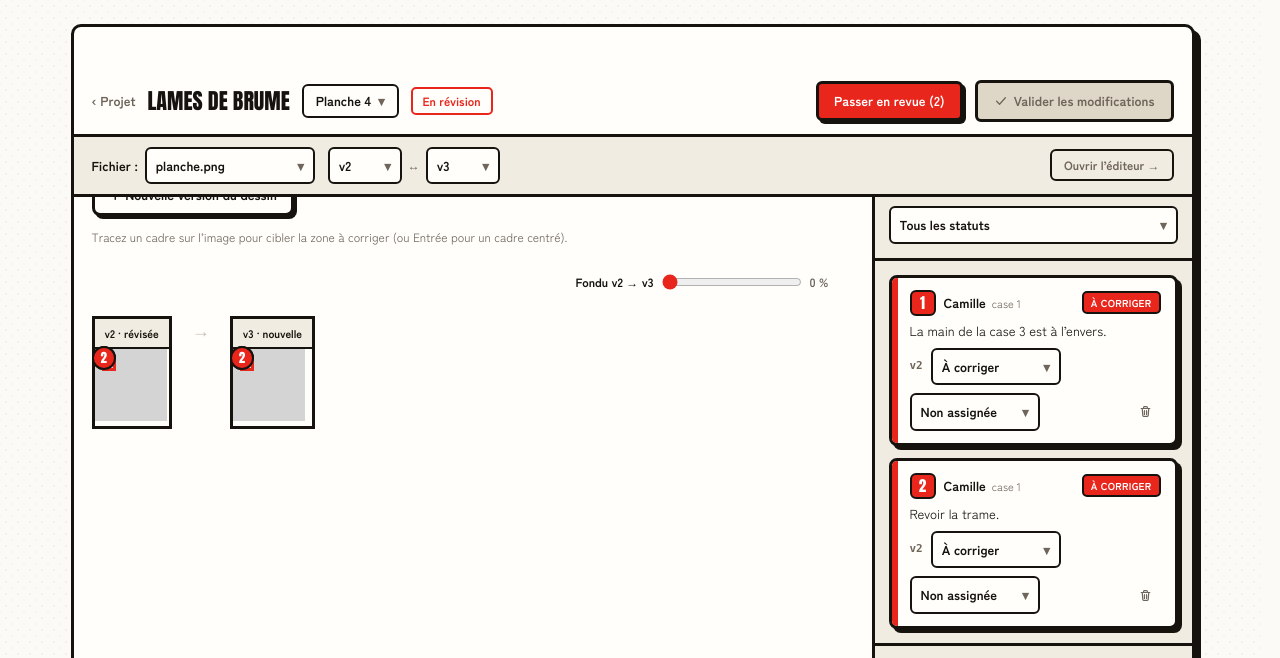
it: ReviewClient — CS-25 new-version triage › walks the corrections, writes each decision through the existing status route and exits with a summary
Click the button "Passer en revue (2)": {"x": 889, "y": 101} [816, 81, 963, 121]
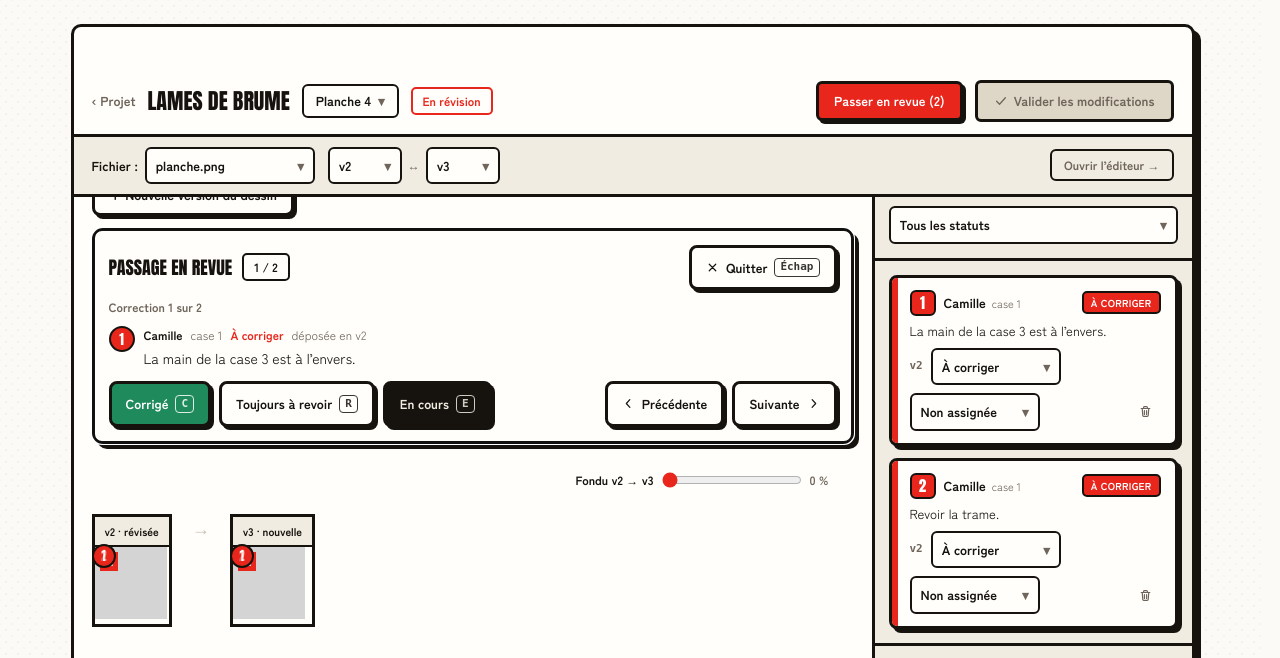
Check: the element named "Passage en revue des corrections" is shown, box [92, 228, 854, 444]
Press c
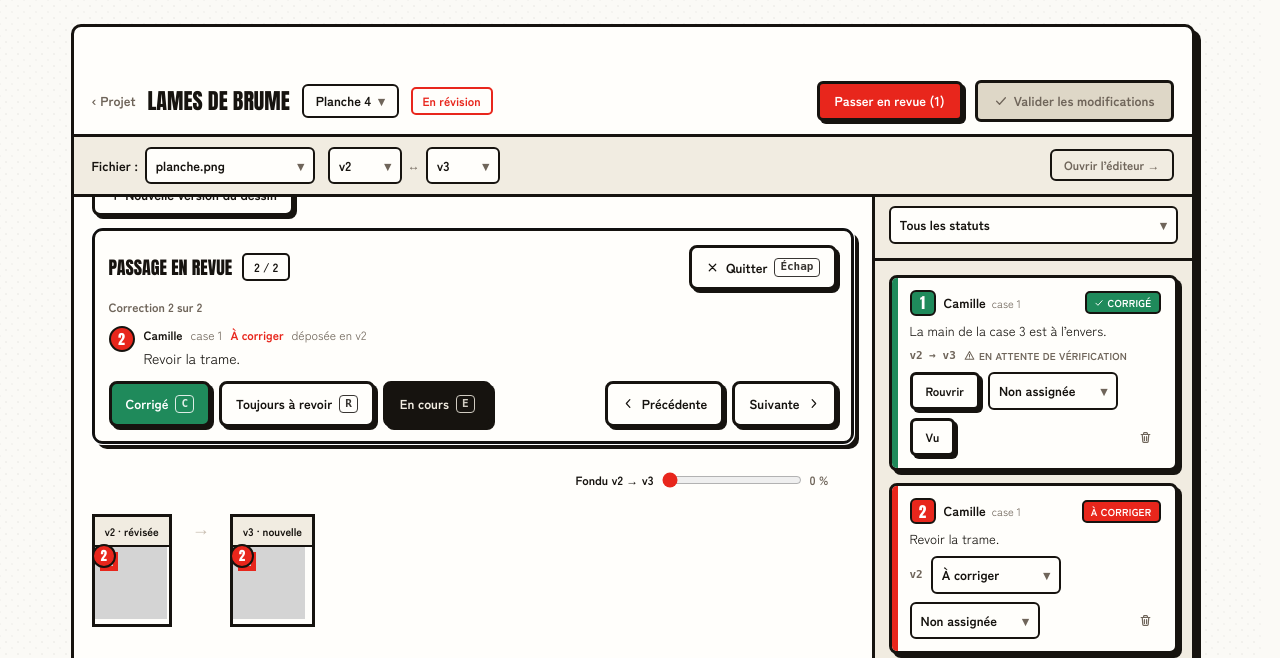
Press e
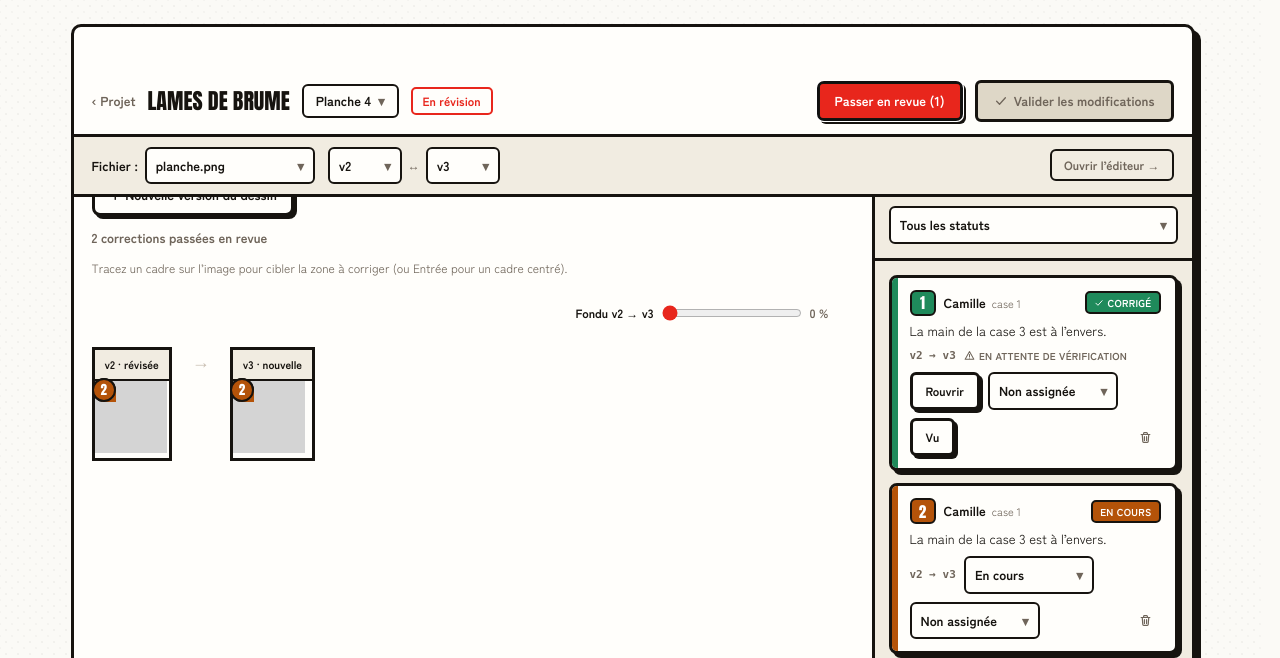
Check: the text "2 corrections passées en revue" is shown, box [92, 228, 267, 246]
